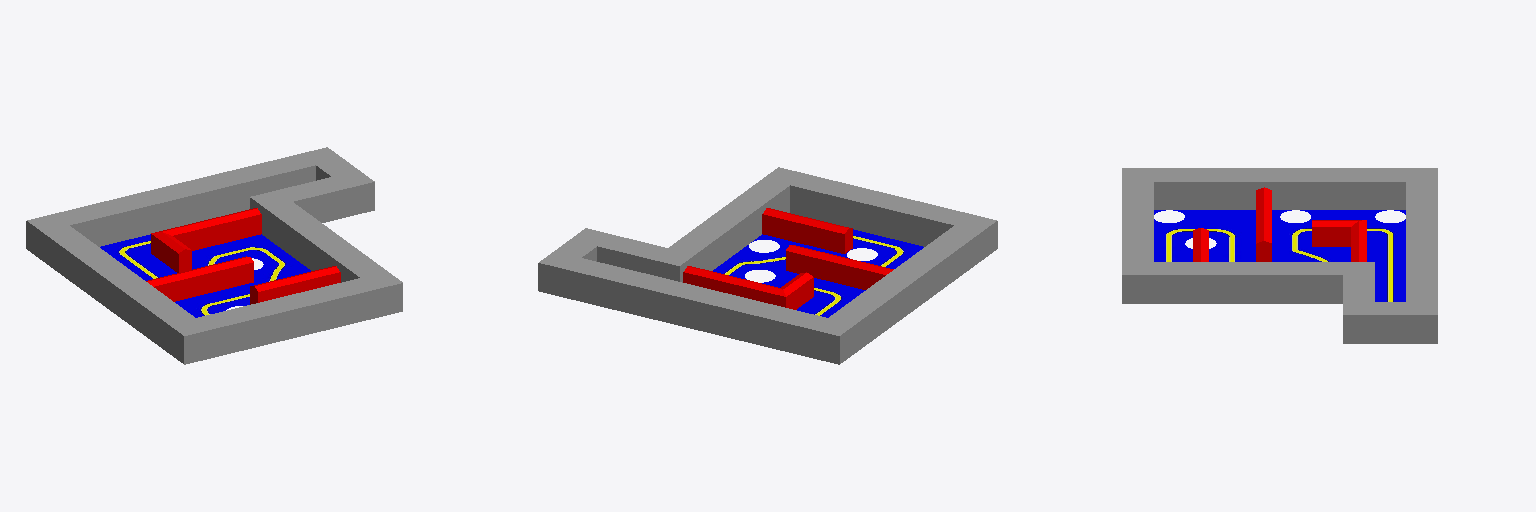
The picture shows the model from 3 angles: view 1: azimuth 30°, elevation 25°; view 2: azimuth 150°, elevation 25°; view 3: azimuth 270°, elevation 25°; orthographic projection.
Parts seen in each view (by area): view 1: Plane; view 2: Plane; view 3: Plane.
Part boxes in pixels (bbox=[...]): Plane: bbox=[26, 147, 402, 364]; Plane: bbox=[538, 167, 997, 364]; Plane: bbox=[1122, 168, 1437, 343].
Size of the model in its own units: 11 by 1 by 10.
3 materials, 2 textured.